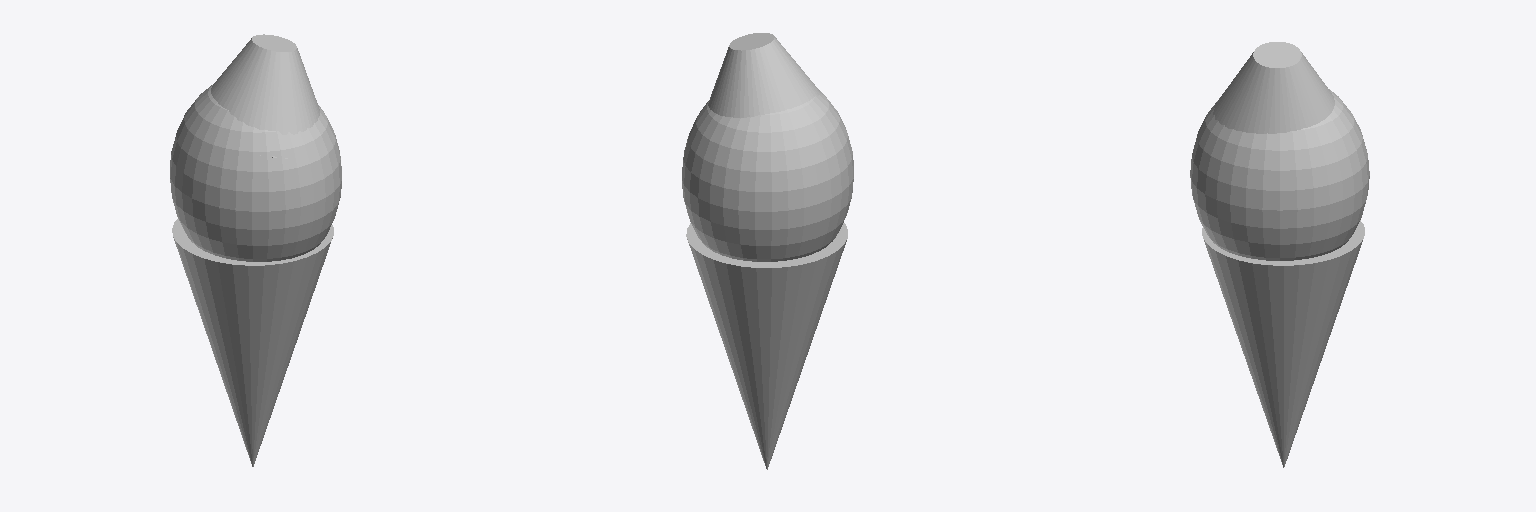
The model's file is IceCream.obj.
3 renders of one model, left to right at view 1: azimuth 30°, elevation 25°; view 2: azimuth 150°, elevation 25°; view 3: azimuth 270°, elevation 25°, orthographic.
Visible parts, largest first — view 1: Cone; view 2: Cone; view 3: Cone.
Boxes of the visible parts, <box> form: Cone: <box>170,34,341,466</box>; Cone: <box>682,33,853,469</box>; Cone: <box>1190,42,1369,467</box>.
Size of the model in its own units: 3.16 by 8.71 by 3.33.